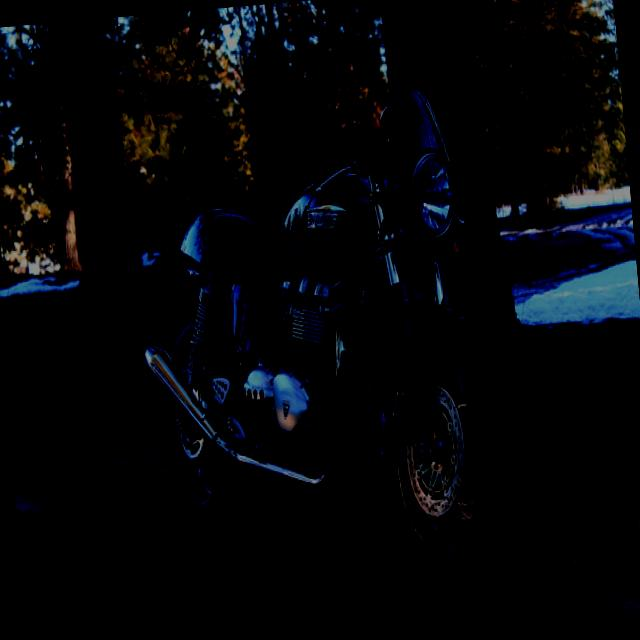Vehicle: (125, 85, 529, 609)
